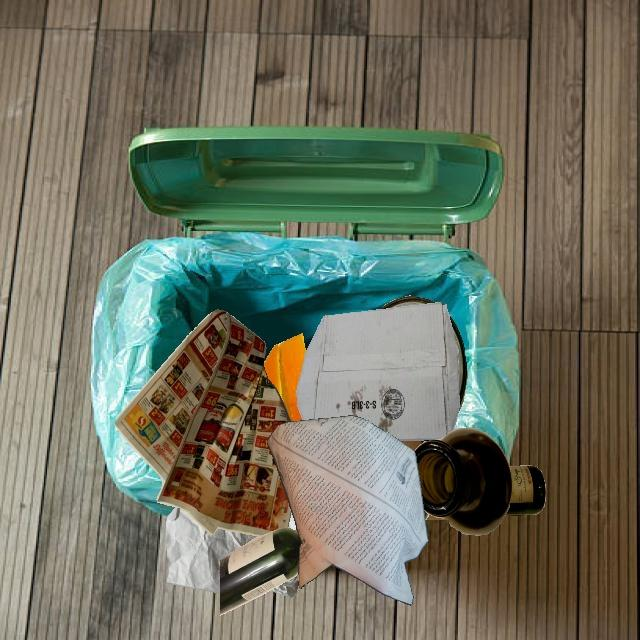biowaste: (264, 333, 306, 422)
cardboard: (296, 302, 459, 440), (416, 430, 453, 520)
glass: (414, 427, 513, 536), (220, 527, 302, 616), (506, 465, 546, 516), (448, 314, 467, 414), (380, 296, 435, 309), (424, 510, 429, 521)
paper: (114, 309, 291, 536), (267, 416, 428, 605), (176, 507, 297, 587), (165, 507, 233, 592), (291, 421, 294, 422)
